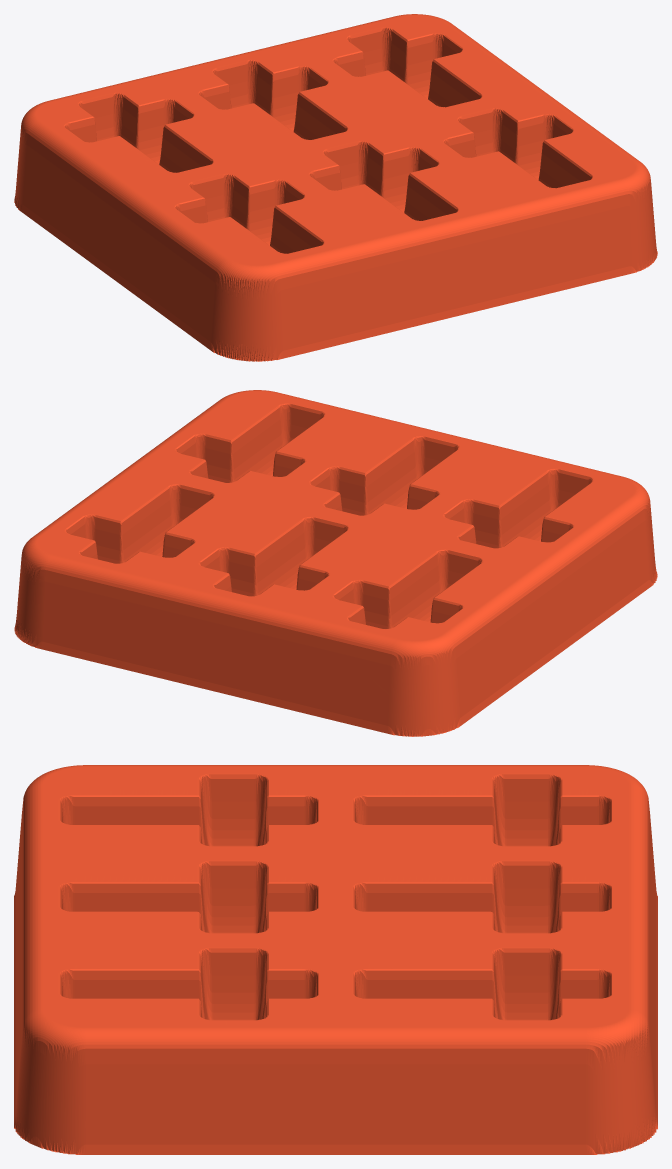
File: mold.glb
The picture shows the model from 3 angles, top to bottom: view 1: azimuth 30°, elevation 25°; view 2: azimuth 150°, elevation 25°; view 3: azimuth 270°, elevation 25°; orthographic projection. The views are drawn at different scales.
Parts seen in each view (by area): view 1: geometry_0; view 2: geometry_0; view 3: geometry_0.
Part boxes in pixels (x1,y1,x2,y2): geometry_0: [14, 14, 657, 361]; geometry_0: [14, 390, 657, 736]; geometry_0: [14, 765, 657, 1154].
Bounding box in the file's own units: 0.0846 × 0.0159 × 0.0808.
